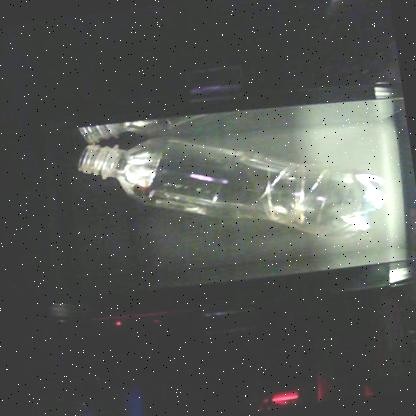Plastic Bottle: (77, 138, 385, 237)
